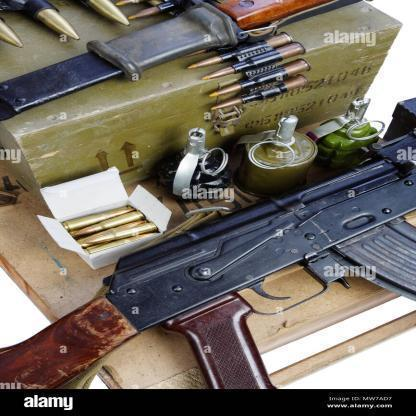Grenade: (242, 116, 317, 194), (158, 127, 233, 202), (310, 101, 388, 172)
Gun: (0, 130, 416, 391)
